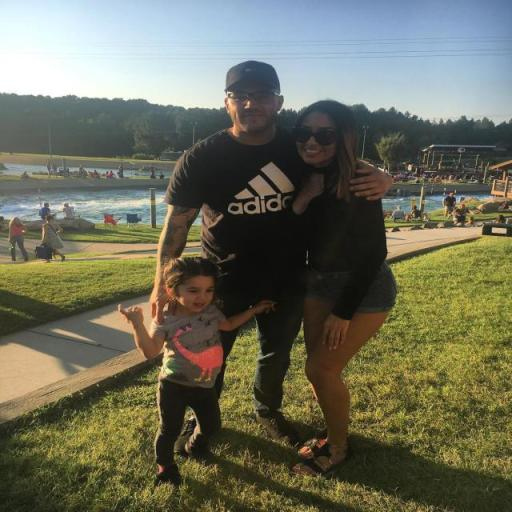Adidas: (224, 158, 296, 217)
